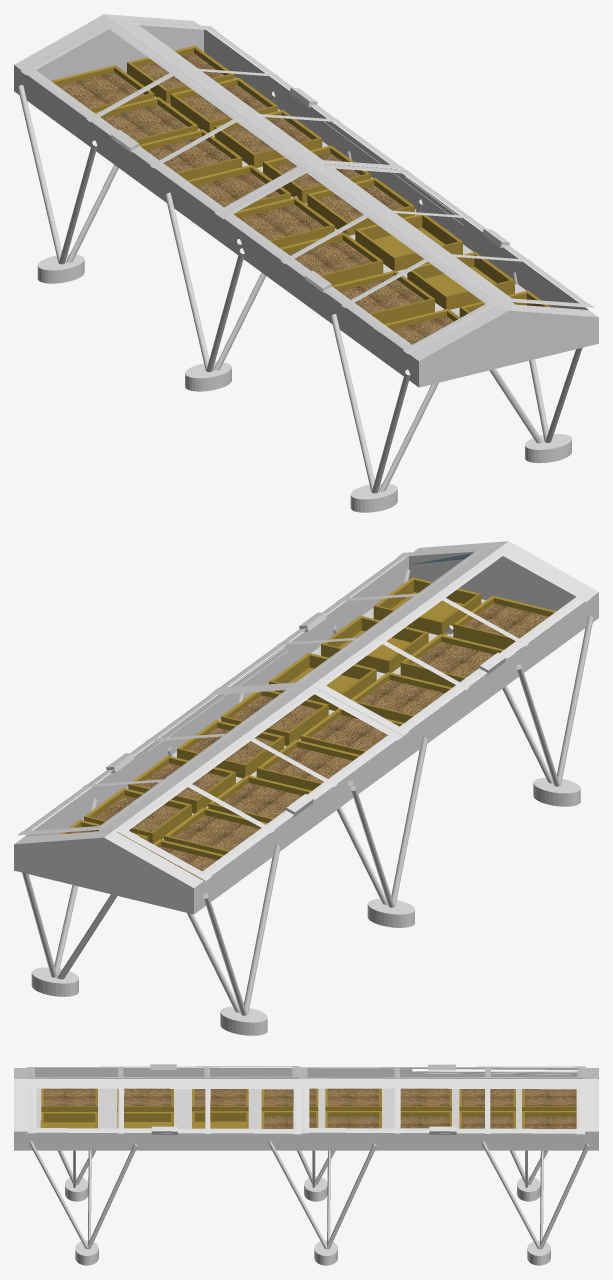
Rendered from whityetunnel.glb.
3 renders of one model, top to bottom at view 1: azimuth 30°, elevation 25°; view 2: azimuth 150°, elevation 25°; view 3: azimuth 270°, elevation 25°, orthographic. The views are drawn at different scales.
Visible parts, largest first — view 1: Cube.001, Cube.028, Cube.027, Cylinder.006, Cylinder.004, Cylinder.003, Cube.018, Cube.025, Cylinder.005, Cube.011, Cube.013, Plane.005 (+24 smaller); view 2: Cube.001, Cube.028, Cube.027, Cylinder.004, Cylinder.003, Cylinder.006, Cube.018, Cube.025, Cylinder.002, Cube.015, Cube.013, Cube.011 (+22 smaller); view 3: Cube.001, Cube.018, Cube.025, Cylinder.002, Cylinder.001, Cylinder.005, Cube.028, Cube.027, Plane.008, Plane.003, Cube.011, Plane (+29 smaller).
Boxes of the visible parts, x1,y1,x2,y2 form: Cube.001: [14, 14, 598, 387]; Cube.028: [20, 21, 306, 216]; Cube.027: [218, 165, 497, 354]; Cylinder.006: [331, 314, 438, 512]; Cylinder.004: [18, 85, 118, 283]; Cylinder.003: [165, 192, 265, 391]; Cube.018: [128, 20, 405, 169]; Cube.025: [324, 164, 594, 307]; Cylinder.005: [489, 272, 582, 463]; Cube.011: [355, 214, 462, 271]; Cube.013: [407, 252, 514, 309]; Plane.005: [239, 204, 324, 240]; Cube.001: [14, 541, 598, 914]; Cube.028: [117, 686, 403, 880]; Cube.027: [314, 548, 591, 735]; Cylinder.004: [187, 844, 280, 1035]; Cylinder.003: [337, 737, 427, 927]; Cylinder.006: [502, 615, 593, 806]; Cube.018: [17, 685, 296, 835]; Cube.025: [213, 547, 485, 691]; Cylinder.002: [22, 798, 117, 996]; Cube.015: [373, 577, 481, 635]; Cube.013: [321, 615, 428, 673]; Cube.011: [269, 652, 376, 710]; Cube.001: [14, 1068, 598, 1150]; Cube.018: [301, 1084, 584, 1134]; Cube.025: [28, 1085, 301, 1134]; Cylinder.002: [481, 1140, 589, 1265]; Cylinder.001: [268, 1140, 376, 1265]; Cylinder.005: [29, 1140, 137, 1265]; Cube.028: [298, 1064, 585, 1078]; Cube.027: [27, 1064, 300, 1078]; Plane.008: [43, 1088, 95, 1106]; Plane.003: [327, 1088, 378, 1106]; Cube.011: [192, 1111, 248, 1128]; Plane: [524, 1089, 576, 1106].
Bounding box in the file's own units: 17.7 × 15.38 × 55.01.
Materials: 8 (3 with a texture image).
